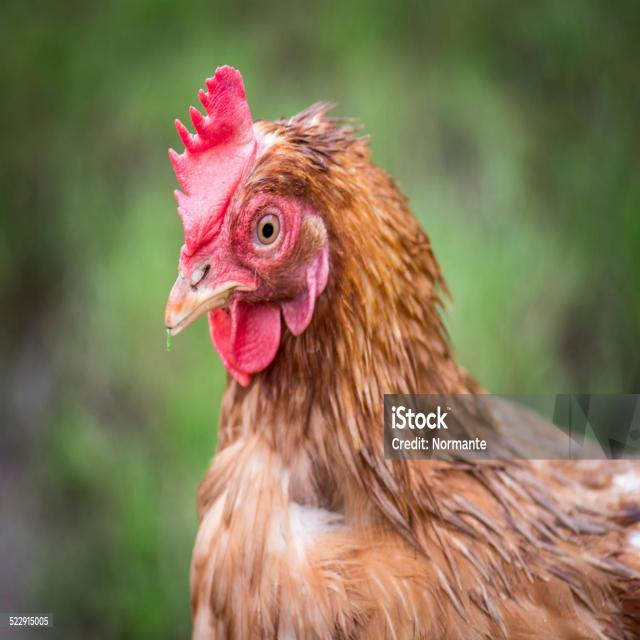Chicken: (155, 62, 604, 640)
